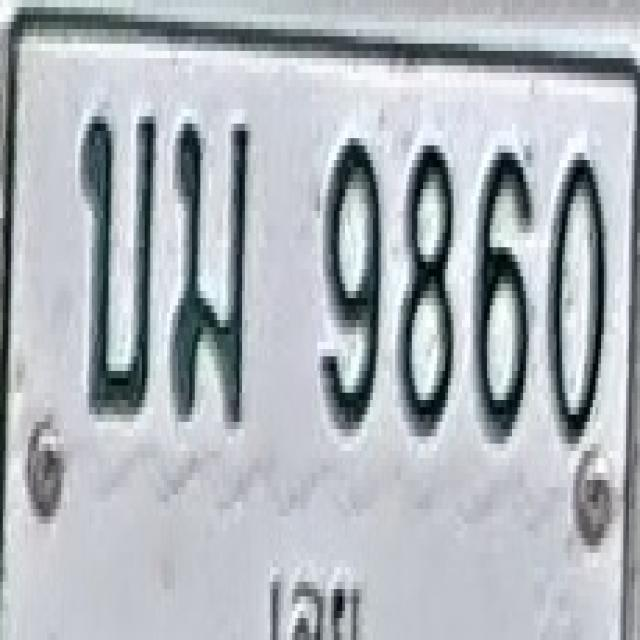A26: (79, 87, 158, 452)
A33: (163, 101, 255, 470)
